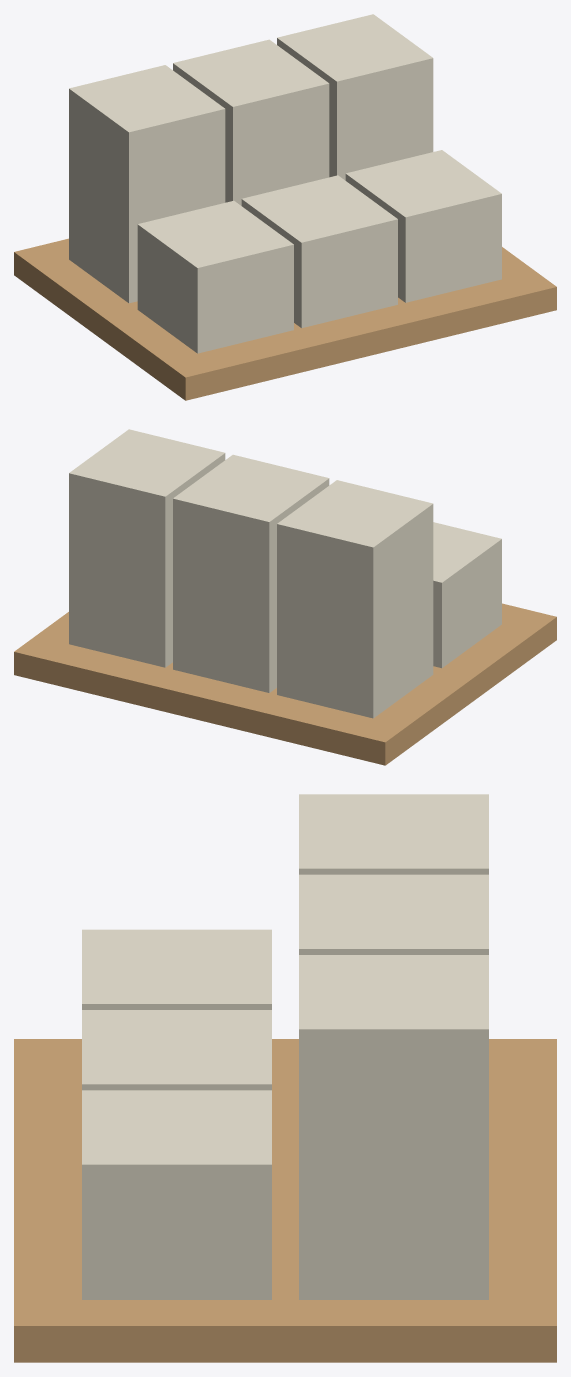
Rendered from stone-stockpile.glb.
3 renders of one model, top to bottom at view 1: azimuth 30°, elevation 25°; view 2: azimuth 150°, elevation 25°; view 3: azimuth 270°, elevation 25°, orthographic. The views are drawn at different scales.
Parts seen in each view (by area): view 1: stone-stockpile; view 2: stone-stockpile; view 3: stone-stockpile.
Boxes of the visible parts, x1,y1,x2,y2 form: stone-stockpile: (14, 14, 556, 400); stone-stockpile: (14, 429, 556, 765); stone-stockpile: (14, 794, 556, 1362).
Size of the model in its own units: 2.5 by 1.25 by 2.
